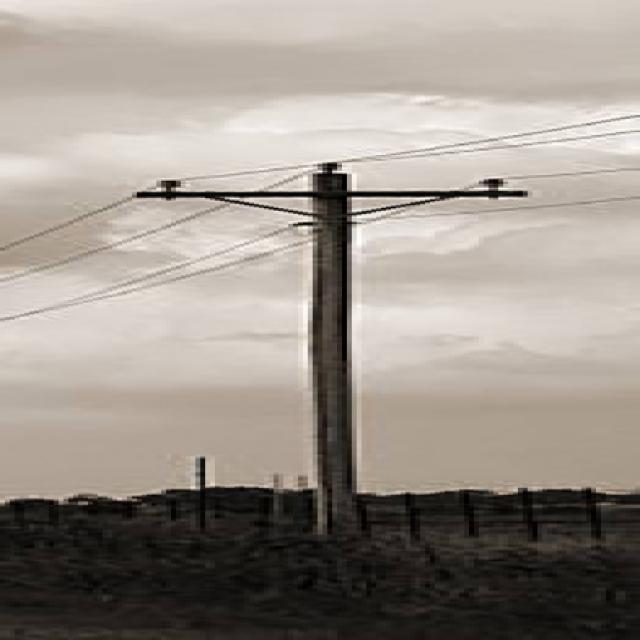pole: (107, 150, 574, 548)
